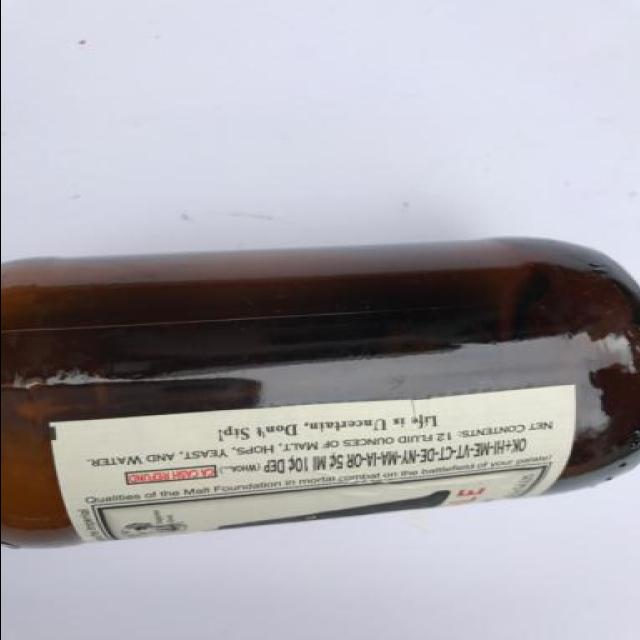glass: (0, 237, 640, 550)
